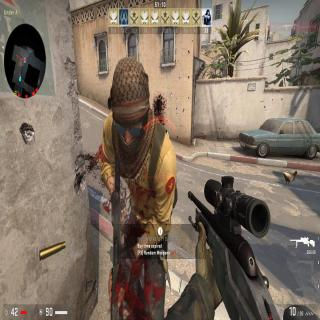T-Body: (94, 59, 181, 318)
T-Head: (109, 56, 151, 133)
